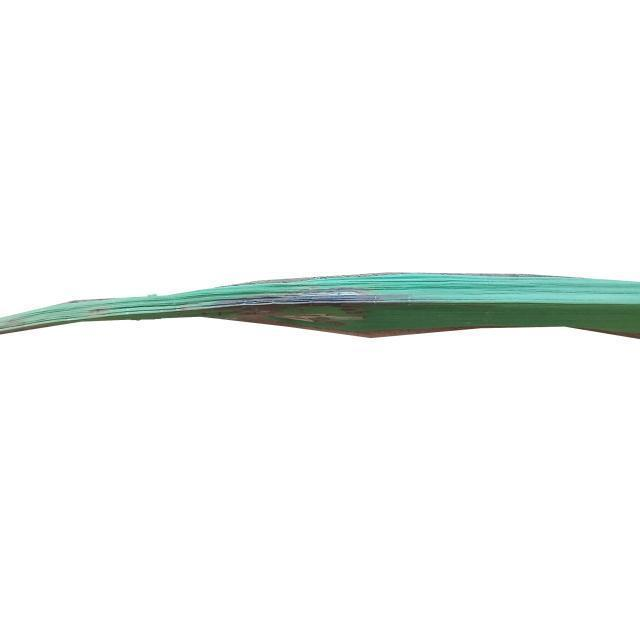Bacterial_Leaf_Blight: (212, 271, 410, 345)
